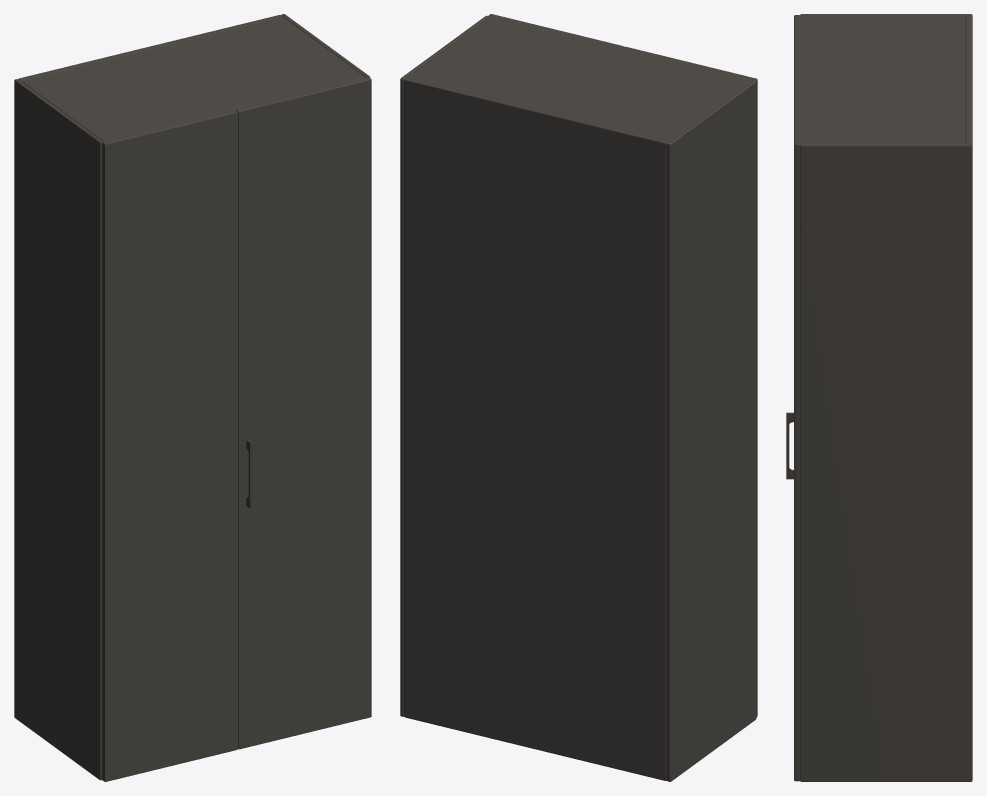
Rendered from DEQ21ART92970-170188.glb.
3 renders of one model, left to right at view 1: azimuth 30°, elevation 25°; view 2: azimuth 150°, elevation 25°; view 3: azimuth 270°, elevation 25°, orthographic.
Parts seen in each view (by area): view 1: DEQ21ART93462_165534; view 2: DEQ21ART93462_165534; view 3: DEQ21ART93462_165534.
Boxes of the visible parts, x1,y1,x2,y2 form: DEQ21ART93462_165534: [14, 14, 371, 781]; DEQ21ART93462_165534: [400, 14, 757, 781]; DEQ21ART93462_165534: [786, 14, 972, 781].
Bounding box in the file's own units: 1.02 × 2.3 × 0.6094.
1 material, 1 textured.
